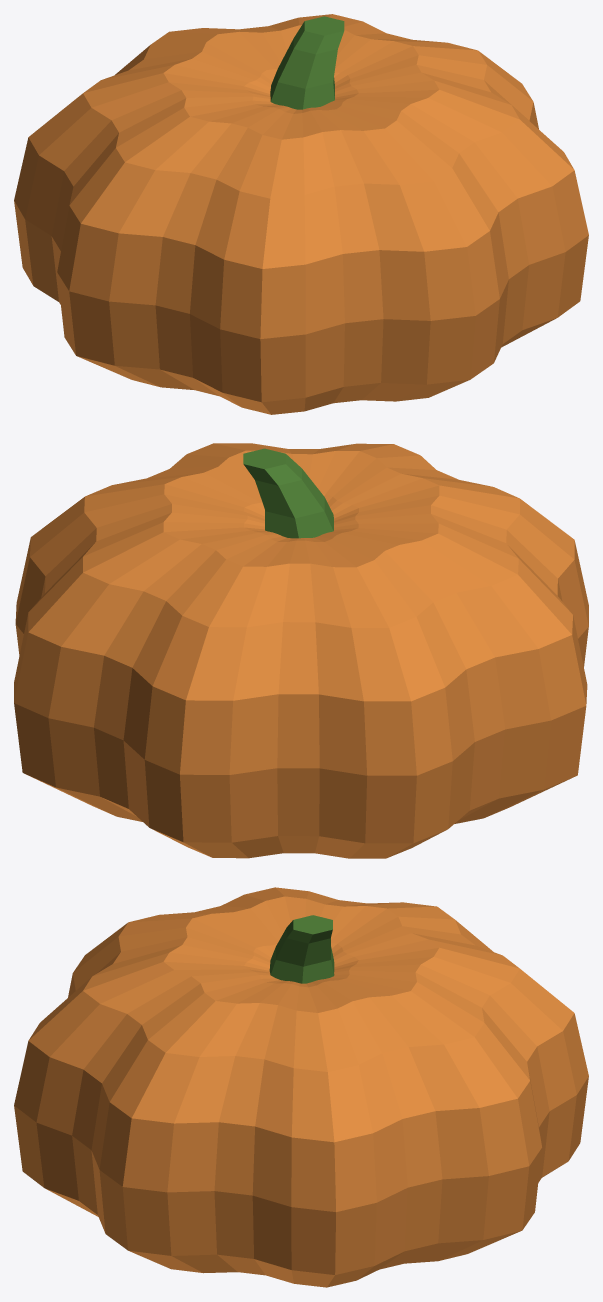
File: HarvestPumpkinSquat.glb
3 views of the same model, one above another, from view 1: azimuth 30°, elevation 25°; view 2: azimuth 150°, elevation 25°; view 3: azimuth 270°, elevation 25° (orthographic). The views are drawn at different scales.
Parts seen in each view (by area): view 1: HarvestPumpkinSquat_Body, HarvestPumpkinSquat_Stem; view 2: HarvestPumpkinSquat_Body, HarvestPumpkinSquat_Stem; view 3: HarvestPumpkinSquat_Body, HarvestPumpkinSquat_Stem.
Boxes of the visible parts, box(x1,y1,x2,y2) form: HarvestPumpkinSquat_Body: box(14, 14, 588, 414); HarvestPumpkinSquat_Stem: box(270, 16, 344, 109); HarvestPumpkinSquat_Body: box(14, 443, 588, 858); HarvestPumpkinSquat_Stem: box(243, 448, 333, 538); HarvestPumpkinSquat_Body: box(14, 887, 588, 1287); HarvestPumpkinSquat_Stem: box(269, 915, 334, 983).
Size of the model in its own units: 0.695 by 0.4101 by 0.695.
